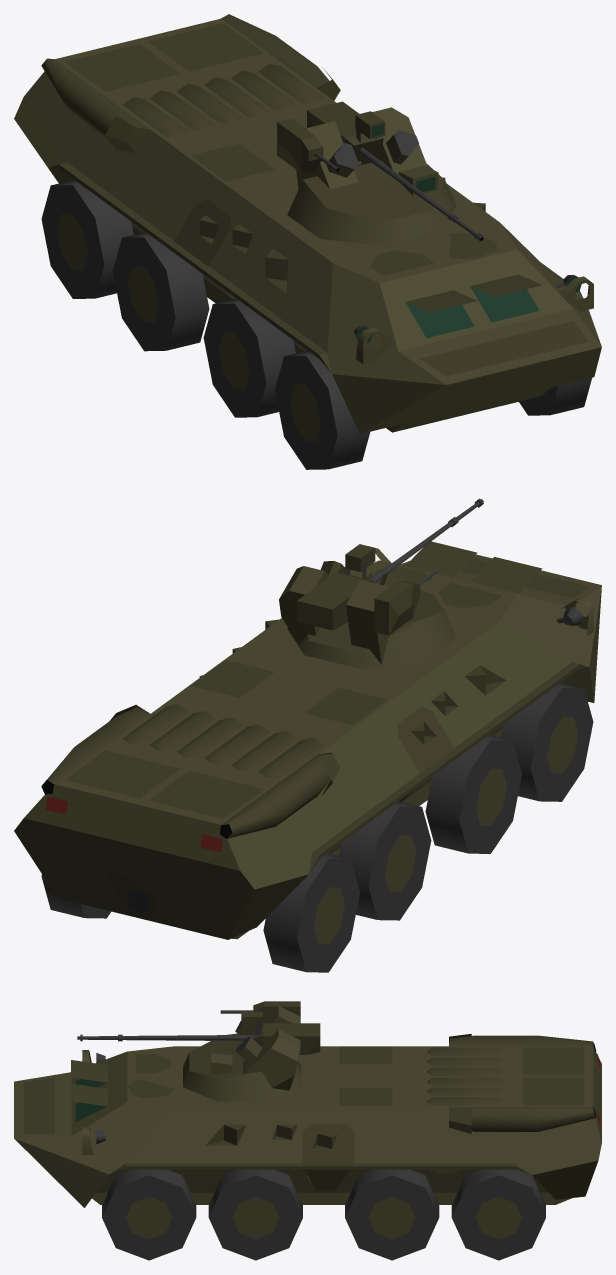
The model's file is BTR82_Final.fbx.
The picture shows the model from 3 angles, top to bottom: view 1: azimuth 30°, elevation 25°; view 2: azimuth 150°, elevation 25°; view 3: azimuth 270°, elevation 25°; orthographic projection. The views are drawn at different scales.
Visible parts, largest first — view 1: BTR82_Body, BTR82_Turret, BTR82_Cannon; view 2: BTR82_Body, BTR82_Turret, BTR82_Cannon; view 3: BTR82_Body, BTR82_Turret, BTR82_Cannon.
Boxes of the visible parts, x1=… form: BTR82_Body: x1=14, y1=14, x2=601, y2=469; BTR82_Turret: x1=287, y1=107, x2=456, y2=245; BTR82_Cannon: x1=277, y1=101, x2=483, y2=241; BTR82_Body: x1=14, y1=541, x2=601, y2=972; BTR82_Turret: x1=279, y1=561, x2=456, y2=668; BTR82_Cannon: x1=297, y1=498, x2=483, y2=635; BTR82_Body: x1=14, y1=1034, x2=601, y2=1260; BTR82_Turret: x1=183, y1=1006, x2=301, y2=1101; BTR82_Cannon: x1=77, y1=1001, x2=320, y2=1054.
Bounding box in the file's own units: 290 × 285 × 755.
